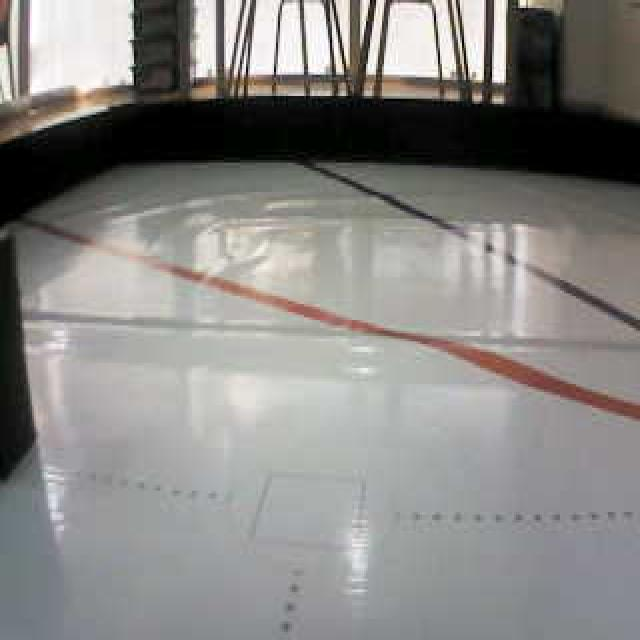naranja: (177, 229, 383, 377)
rojo: (424, 174, 619, 324)
verde: (0, 228, 67, 466)
